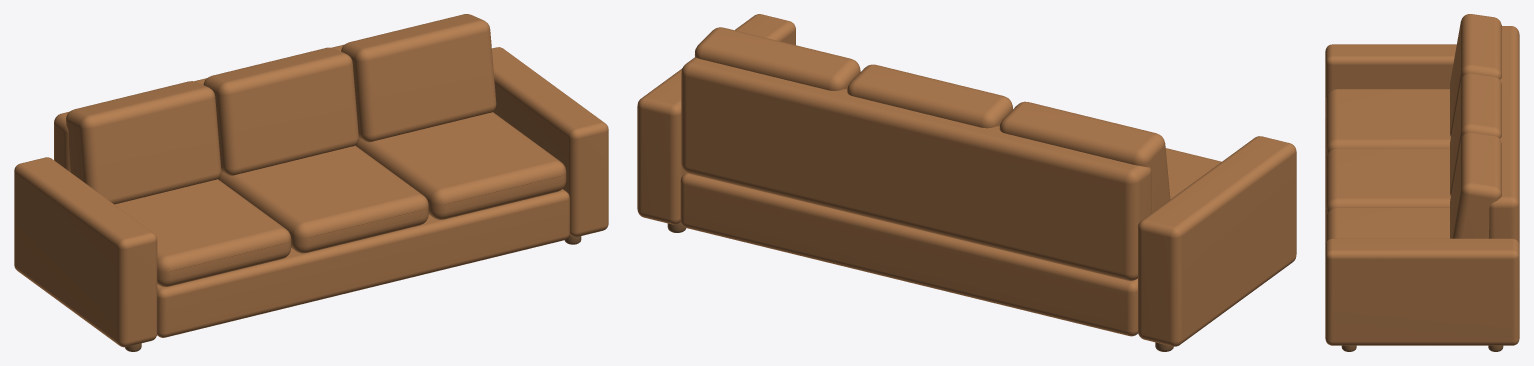
The model's file is finnala.glb.
The picture shows the model from 3 angles, left to right: view 1: azimuth 30°, elevation 25°; view 2: azimuth 150°, elevation 25°; view 3: azimuth 270°, elevation 25°; orthographic projection. The views are drawn at different scales.
Visible parts, largest first — view 1: Upholstered base, Arm, Back cushion 1, Back cushion 2, Back cushion 3, Seat cushion 2, Seat cushion 3, Seat cushion 1, Arm.001, Back structure; view 2: Back structure, Upholstered base, Arm, Arm.001, Back cushion 1, Back cushion 3, Back cushion 2, Seat cushion 1; view 3: Arm.001, Seat cushion 1, Seat cushion 2, Arm, Back cushion 3, Back structure, Seat cushion 3, Back cushion 2, Back cushion 1, Upholstered base.
Part boxes in pixels (left/top/right/bottom): Upholstered base: left=157, top=189, right=569, bottom=337; Arm: left=14, top=157, right=157, bottom=347; Back cushion 1: left=66, top=81, right=221, bottom=204; Back cushion 2: left=203, top=47, right=358, bottom=175; Back cushion 3: left=341, top=14, right=496, bottom=142; Seat cushion 2: left=218, top=145, right=428, bottom=253; Seat cushion 3: left=355, top=112, right=566, bottom=219; Seat cushion 1: left=114, top=179, right=291, bottom=286; Arm.001: left=492, top=47, right=608, bottom=236; Back structure: left=54, top=44, right=344, bottom=171; Back structure: left=681, top=57, right=1151, bottom=280; Upholstered base: left=680, top=172, right=1138, bottom=336; Arm: left=1138, top=136, right=1296, bottom=346; Arm.001: left=637, top=14, right=795, bottom=224; Back cushion 1: left=999, top=101, right=1170, bottom=212; Back cushion 3: left=695, top=27, right=860, bottom=90; Back cushion 2: left=847, top=64, right=1012, bottom=128; Seat cushion 1: left=1165, top=148, right=1221, bottom=199; Arm.001: left=1325, top=238, right=1519, bottom=345; Seat cushion 1: left=1326, top=89, right=1450, bottom=156; Seat cushion 2: left=1326, top=148, right=1450, bottom=215; Arm: left=1325, top=44, right=1456, bottom=119; Back cushion 3: left=1450, top=132, right=1501, bottom=238; Back structure: left=1488, top=26, right=1519, bottom=244; Seat cushion 3: left=1326, top=207, right=1449, bottom=241; Back cushion 2: left=1450, top=73, right=1501, bottom=195; Back cushion 1: left=1450, top=14, right=1501, bottom=136; Upholstered base: left=1325, top=117, right=1326, bottom=244.
Bounding box in the file's own units: 2.52 × 0.8712 × 0.98.
